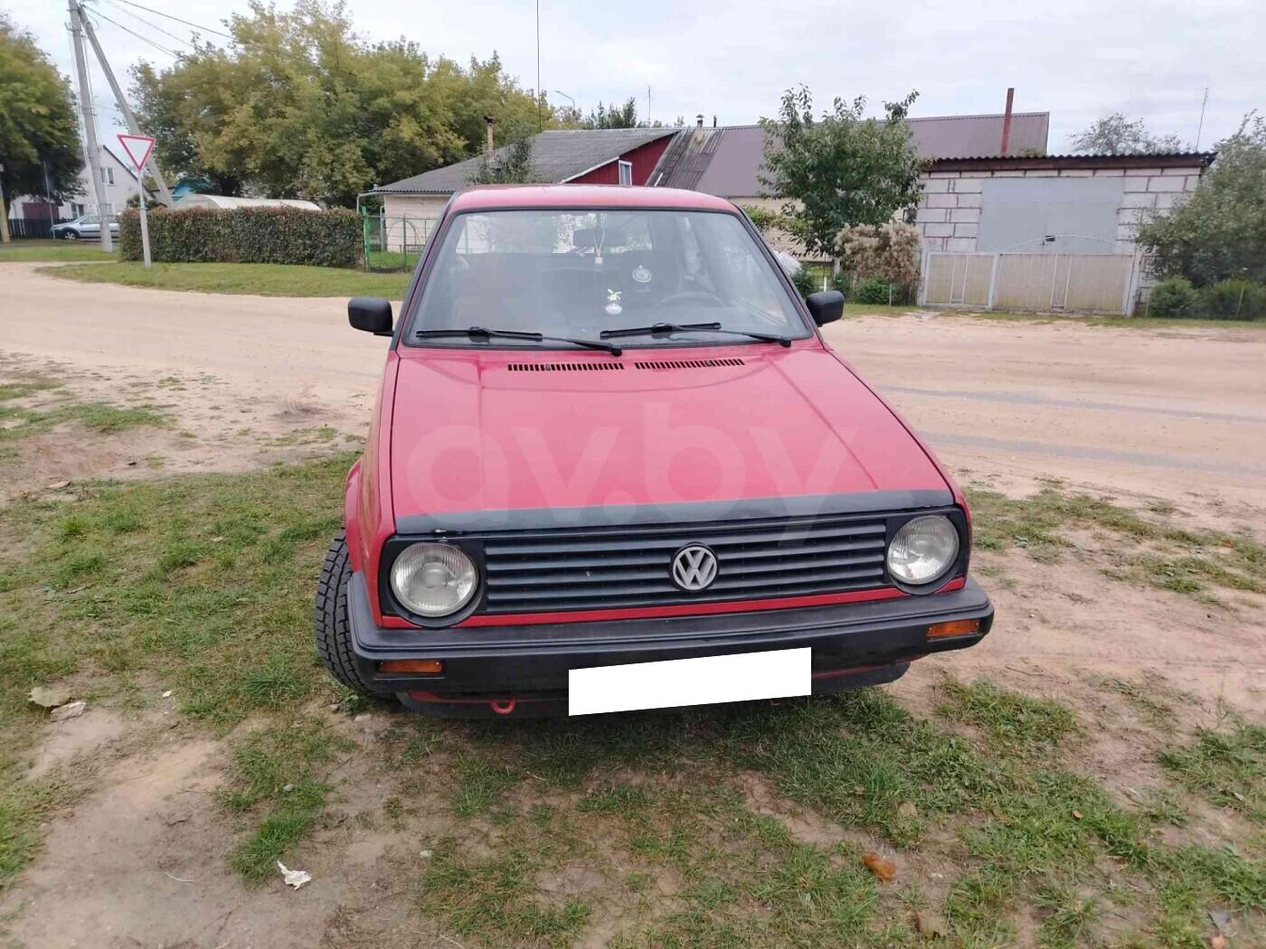Golf_1983-1992: (315, 168, 1027, 752)
